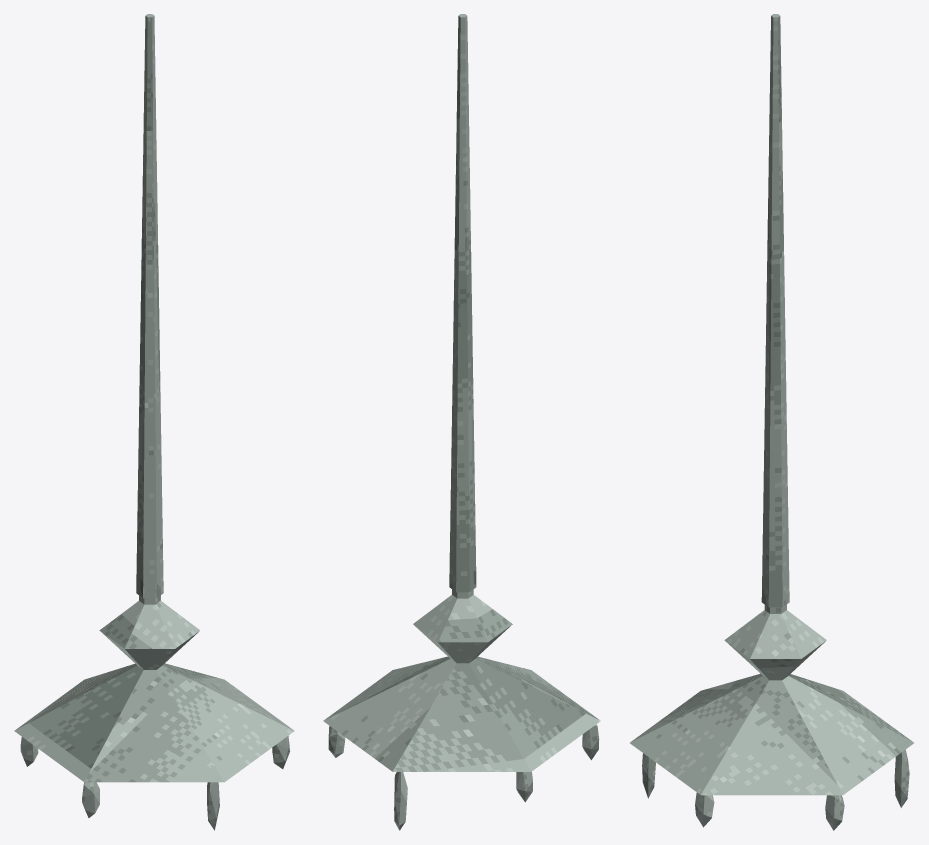
Rendered from Prova_Luce_4.fbx.
3 renders of one model, left to right at view 1: azimuth 30°, elevation 25°; view 2: azimuth 150°, elevation 25°; view 3: azimuth 270°, elevation 25°, orthographic. The views are drawn at different scales.
Parts seen in each view (by area): view 1: Icosphere.021; view 2: Icosphere.021; view 3: Icosphere.021.
Boxes of the visible parts, x1,y1,x2,y2 form: Icosphere.021: [14, 14, 294, 830]; Icosphere.021: [323, 14, 600, 830]; Icosphere.021: [630, 14, 913, 830].
Bounding box in the file's own units: 1.17 × 4.13 × 1.35.
Materials: 2 (1 with a texture image).
